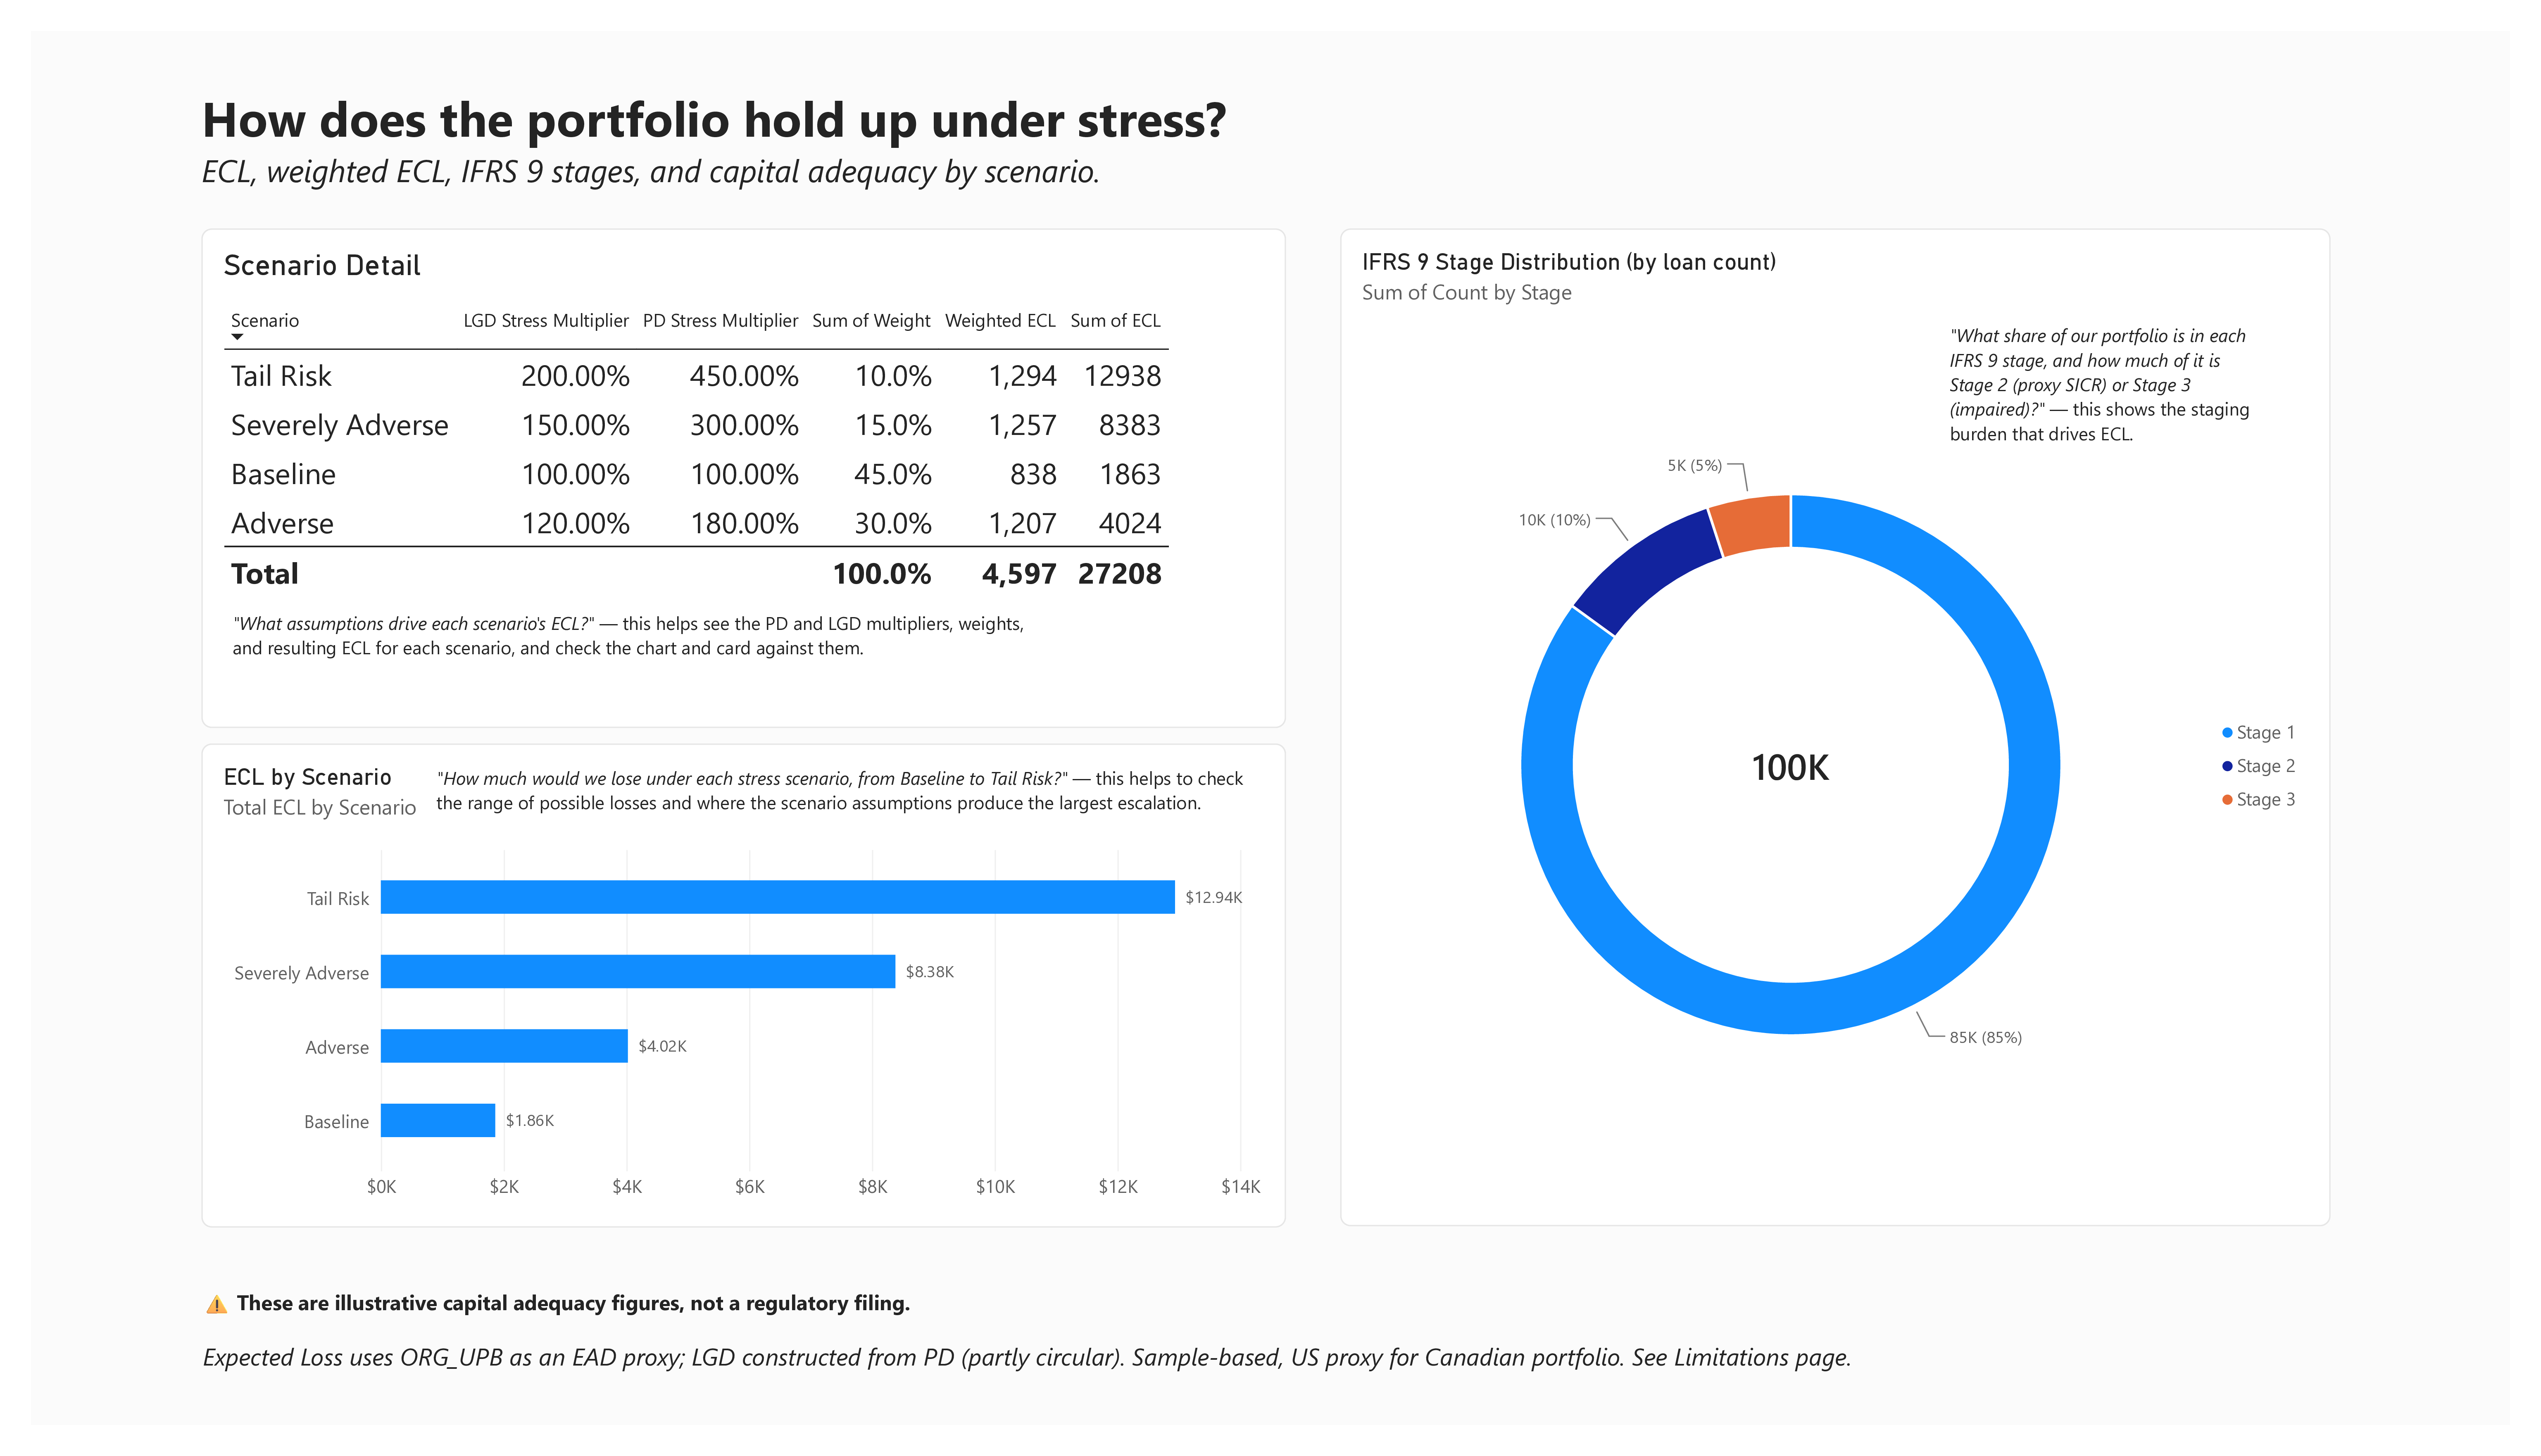

This screenshot's page, from the dashboard's own definition file:
{"tool":"powerbi","page":{"name":"Stress & IFRS 9","canvas":[1920,1080],"ordinal":2},"visuals":[{"type":"clusteredBarChart","title":"ECL by Scenario","fields":{"Category":["dim_scenario.Scenario"],"Y":["fact_scenario_analysis.Total ECL"]},"box":[132.1,551.9,839.7,375],"z":0},{"type":"tableEx","title":"Scenario Detail","fields":{"Values":["dim_scenario.Scenario","fact_scenario_analysis.LGD_Multiplier","fact_scenario_analysis.PD_Multiplier","Sum(fact_scenario_analysis.Weight)","fact_scenario_analysis.Weighted ECL","Sum(fact_scenario_analysis.ECL)"]},"box":[131.9,152.8,840.3,387.5],"z":1000},{"type":"donutChart","title":"IFRS 9 Stage Distribution (by loan count)","fields":{"Category":["fact_ifrs9_stages.Stage"],"Y":["Sum(fact_ifrs9_stages.Count)"]},"box":[1013.9,152.8,766.7,773.6],"z":2000},{"type":"textbox","box":[132.6,974.4,1648.8,81.4],"z":3000},{"type":"textbox","box":[131.7,41.7,1680,96.7],"z":4000},{"type":"textbox","box":[155.6,448.6,622.2,305.6],"z":4001},{"type":"textbox","box":[313.9,569.4,633.3,62.5],"z":4002},{"type":"textbox","box":[1486.1,226.4,234.7,120.8],"z":4003}]}

Visuals, with their boxes on the page's 1920x1080 design canvas (x1, y1, x2, y2). These are canvas units, not pixel positions in the 2541x1456 screenshot, which may show the page scaled, cropped or inside an application window:
"ECL by Scenario" clusteredBarChart: (x1=132, y1=552, x2=972, y2=927)
"Scenario Detail" tableEx: (x1=132, y1=153, x2=972, y2=540)
"IFRS 9 Stage Distribution (by loan count)" donutChart: (x1=1014, y1=153, x2=1781, y2=926)
textbox: (x1=133, y1=974, x2=1781, y2=1056)
textbox: (x1=132, y1=42, x2=1812, y2=138)
textbox: (x1=156, y1=449, x2=778, y2=754)
textbox: (x1=314, y1=569, x2=947, y2=632)
textbox: (x1=1486, y1=226, x2=1721, y2=347)
